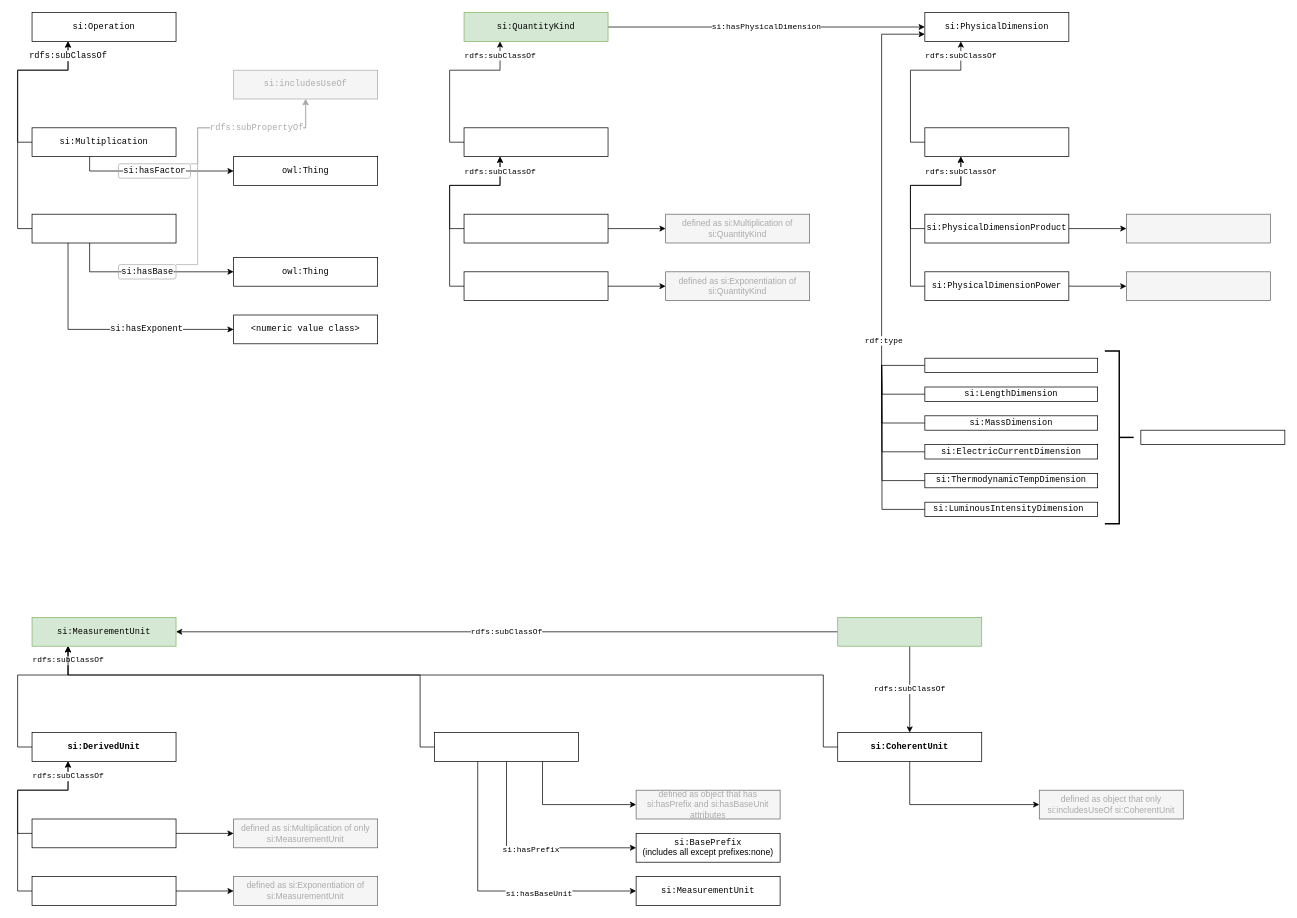
Image size: 1297x918. Some labels were removed from this diagram. Here are the shapes that lost their labels. From the top down, the box of each, then its label:
(463, 127, 608, 157): si:DerivedQuantityKind
(924, 127, 1069, 157): si:DerivedPhysicalDimension
(31, 213, 176, 243): si:Exponentiation
(463, 213, 608, 243): si:QuantityKindProduct
(1126, 213, 1270, 243): defined as si:Multiplication of only si:PhysicalDimension
(463, 271, 608, 301): si:QuantityKindPower
(1126, 271, 1270, 301): defined as si:Exponentiation of only si:PhysicalDimension
(924, 357, 1098, 373): si:TimeDimension
(1140, 429, 1285, 445): si:BaseDimensions
(837, 617, 982, 646): si:SIBaseUnit
(434, 732, 579, 761): si:PrefixedUnit
(31, 818, 176, 848): si:UnitProduct
(31, 876, 176, 905): si:UnitPower
